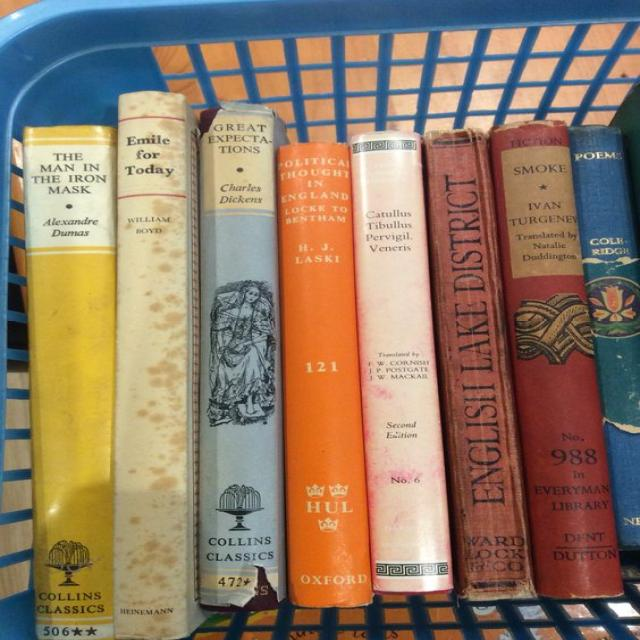book: (489, 121, 625, 596), (425, 129, 535, 600), (23, 125, 114, 640), (351, 132, 452, 596), (279, 141, 371, 607), (199, 106, 279, 610), (118, 91, 191, 639)
